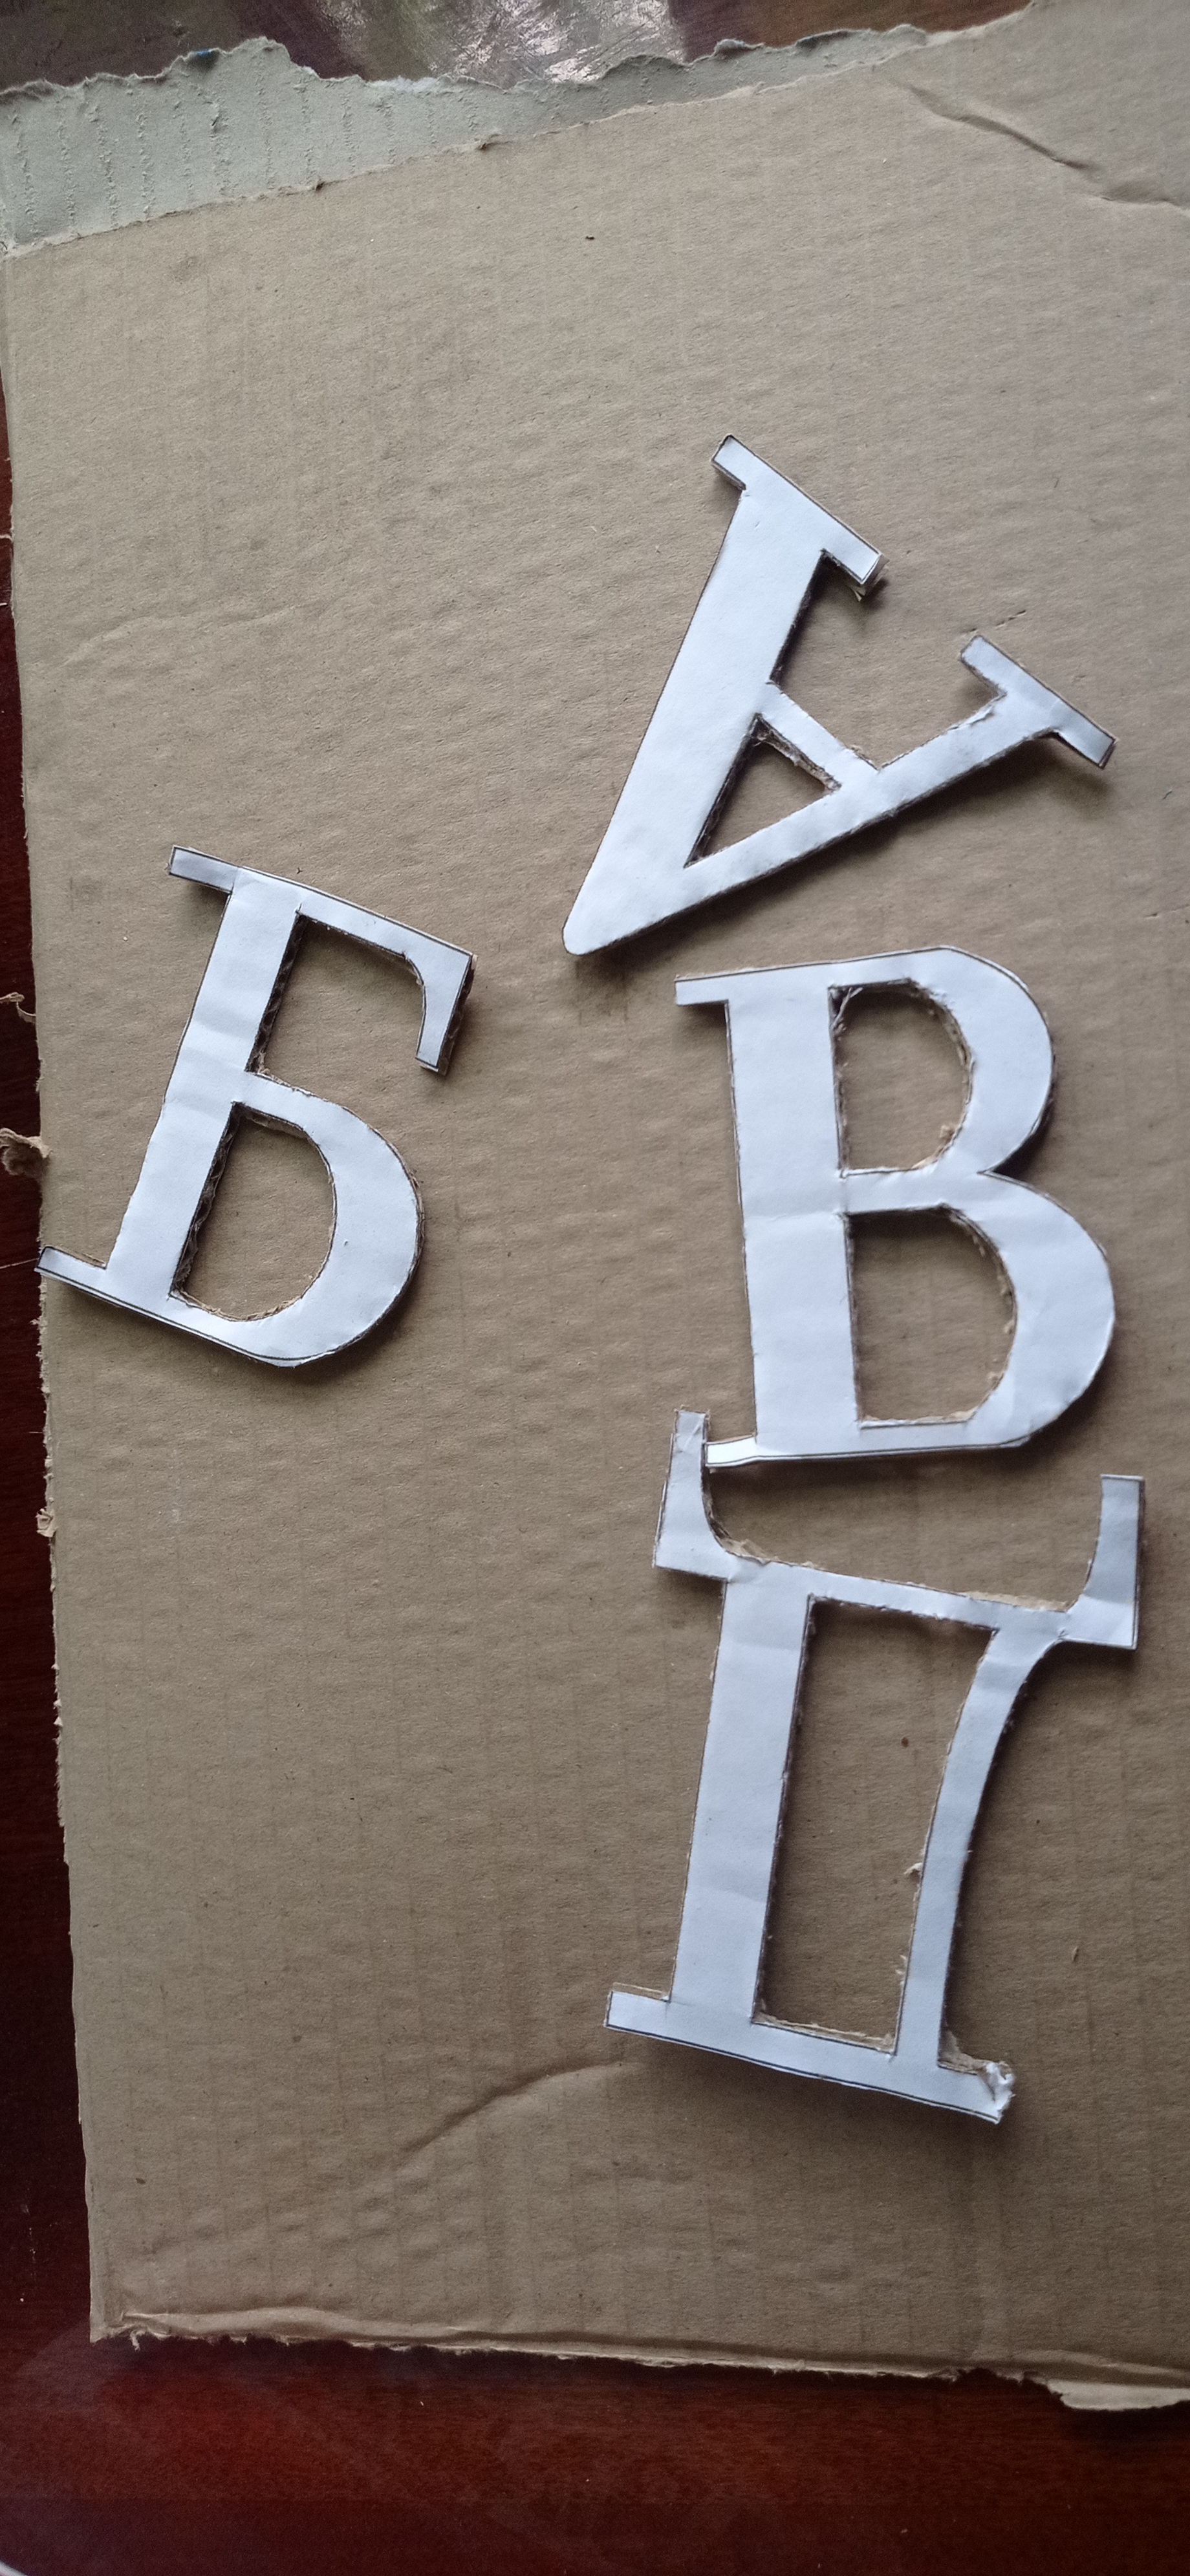a: (551, 432, 1114, 958)
b: (43, 838, 478, 1377)
d: (602, 1403, 1147, 2128)
v: (676, 945, 1119, 1475)
